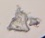microplastic: (6, 5, 29, 32), (29, 18, 41, 27)
